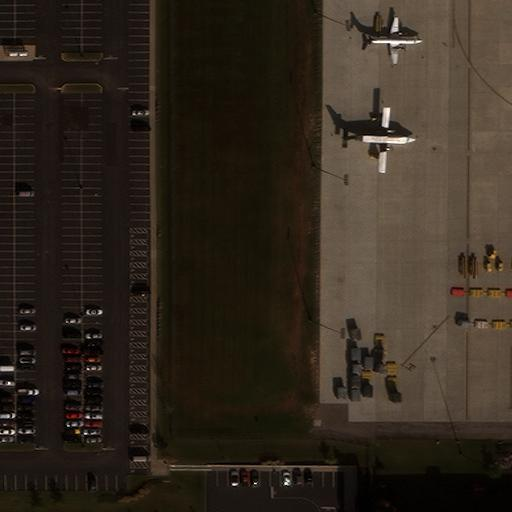Medium Civil Transport: (342, 107, 414, 172), (362, 17, 421, 65)
